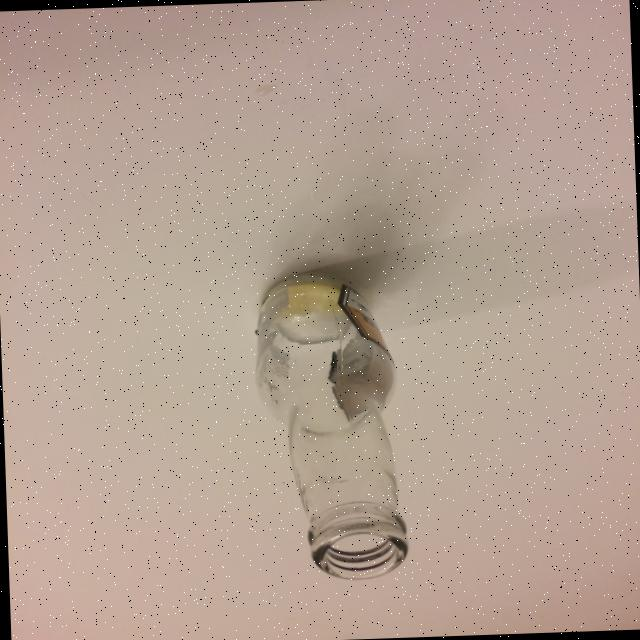glass: (250, 266, 410, 582)
